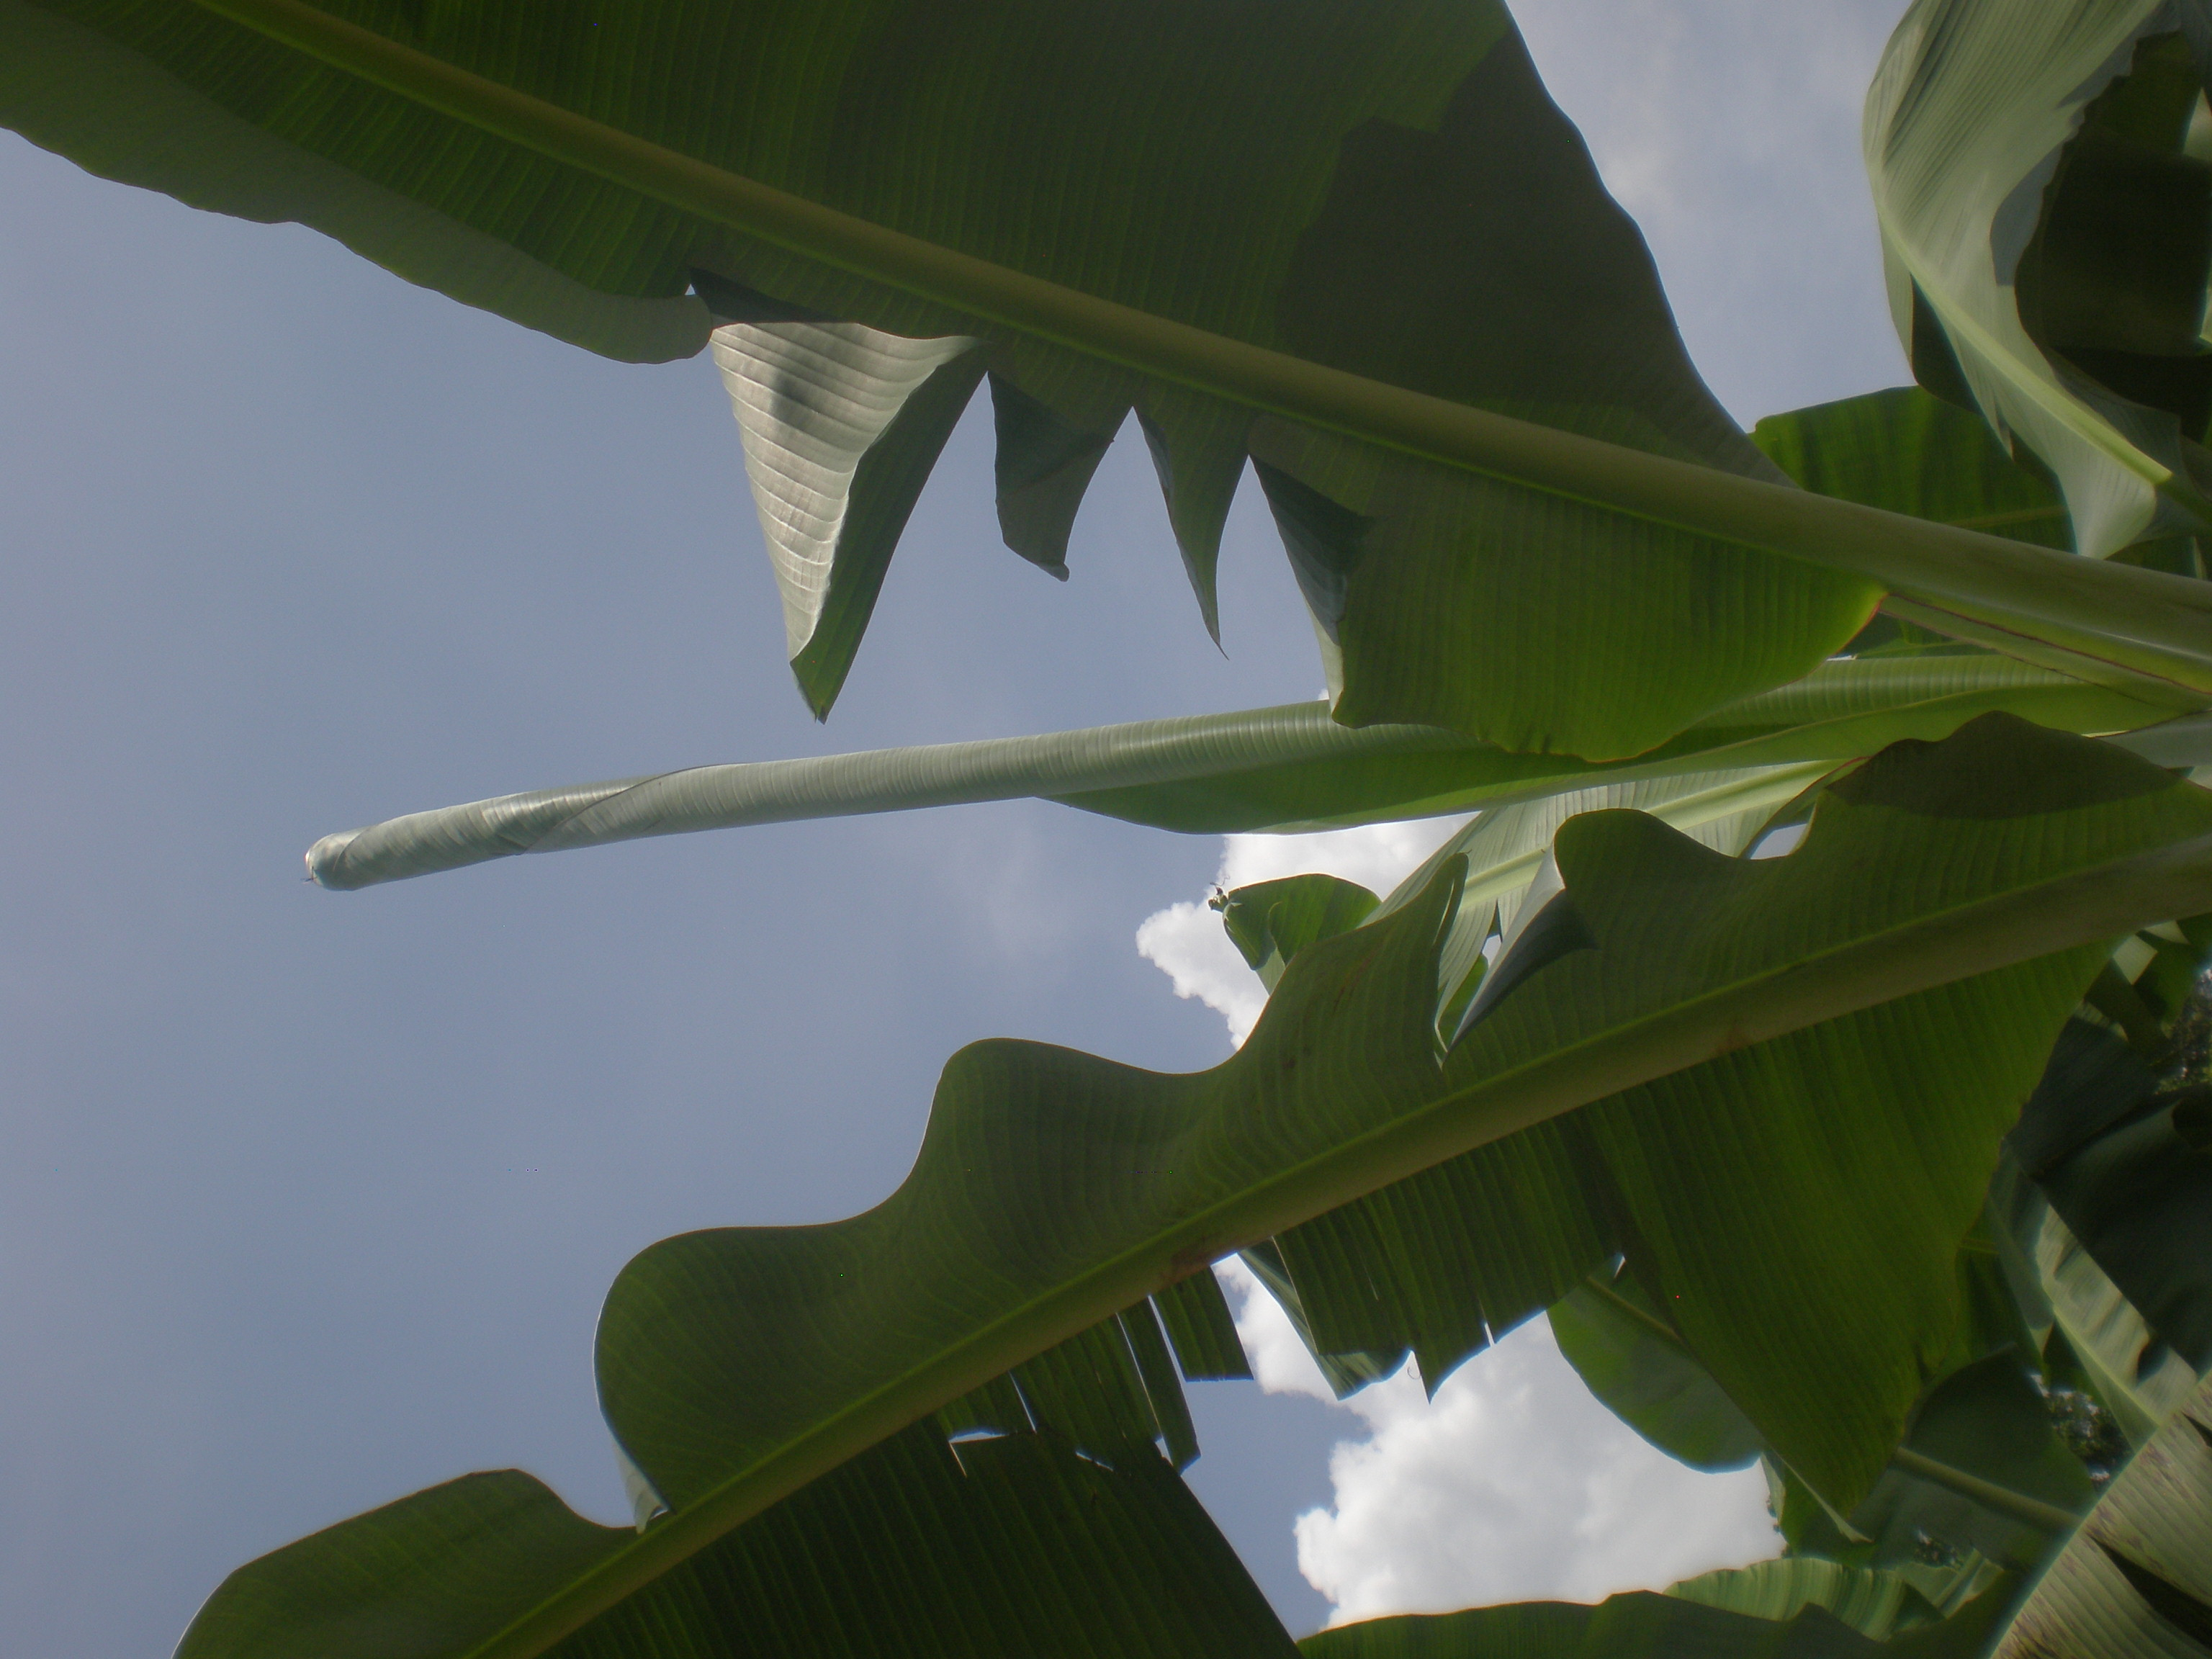candleleafs: (301, 692, 1327, 897)
